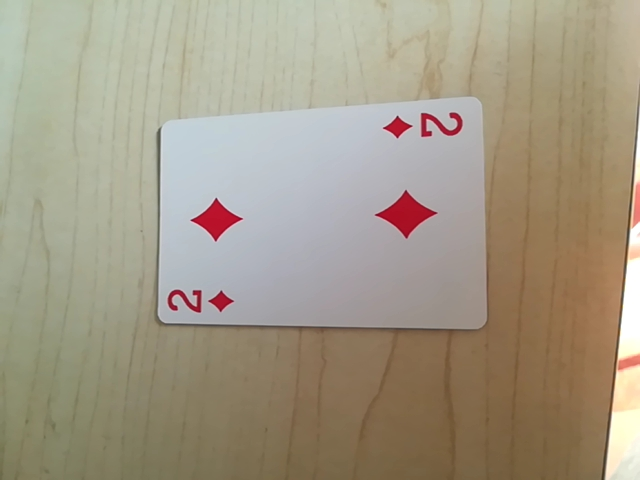fk 2: (382, 106, 470, 146), (163, 283, 238, 322)
